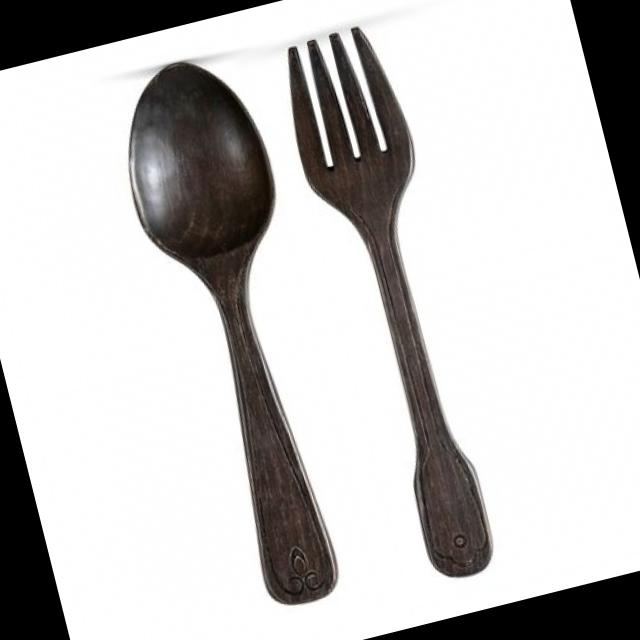fork: (274, 21, 500, 584)
spoon: (117, 53, 350, 615)
